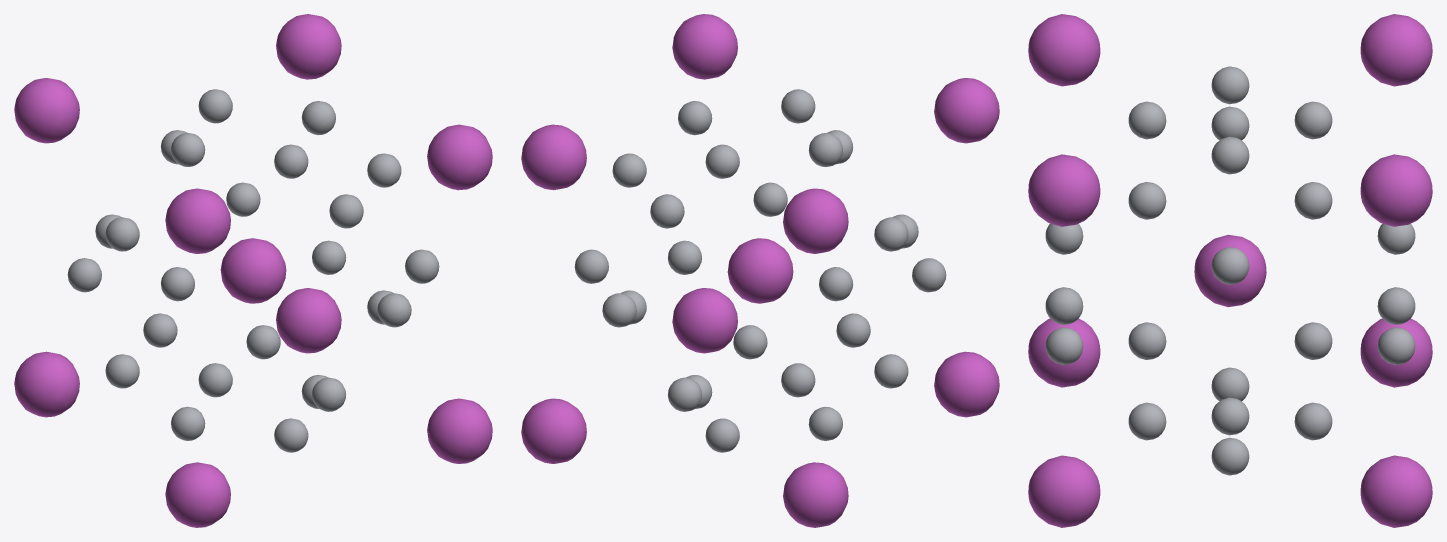
File: alpha-AgI.glb
3 renders of one model, left to right at view 1: azimuth 30°, elevation 25°; view 2: azimuth 150°, elevation 25°; view 3: azimuth 270°, elevation 25°, orthographic. The views are drawn at different scales.
Visible parts, largest first — view 1: atom1_IndexedFaceSet, atom0_IndexedFaceSet; view 2: atom1_IndexedFaceSet, atom0_IndexedFaceSet; view 3: atom1_IndexedFaceSet, atom0_IndexedFaceSet.
Boxes of the visible parts, box(x1,y1,x2,y2) form: atom1_IndexedFaceSet: box(14, 14, 492, 527); atom0_IndexedFaceSet: box(67, 89, 439, 452); atom1_IndexedFaceSet: box(521, 14, 999, 527); atom0_IndexedFaceSet: box(574, 89, 946, 452); atom1_IndexedFaceSet: box(1028, 14, 1432, 527); atom0_IndexedFaceSet: box(1045, 66, 1415, 475).
Size of the model in its own units: 6.17 by 6.17 by 6.16.
